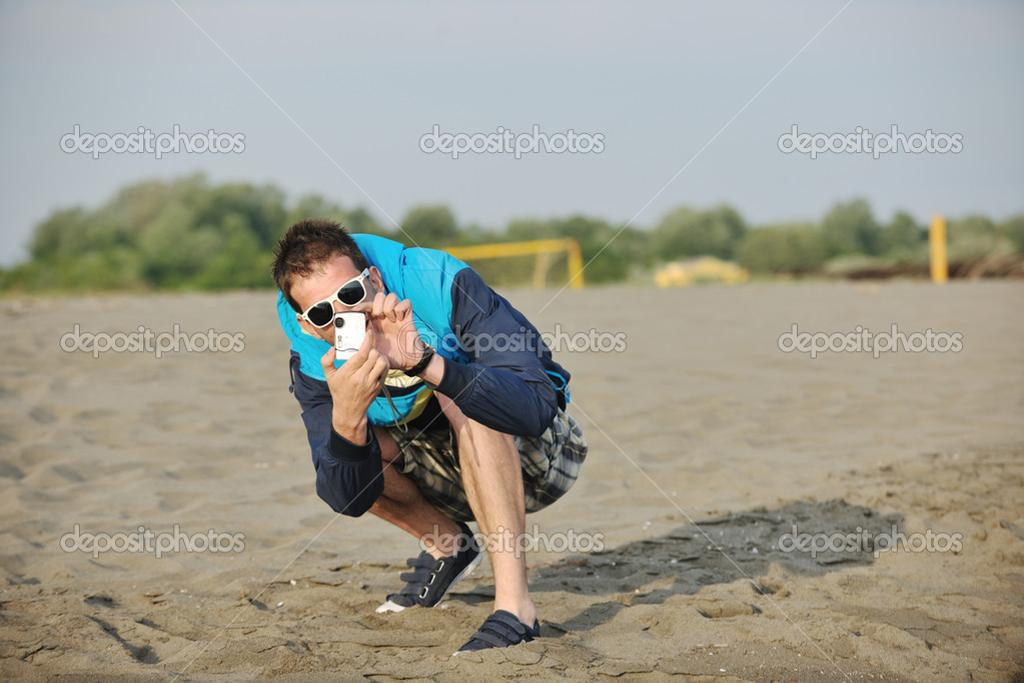face: (289, 245, 389, 359)
